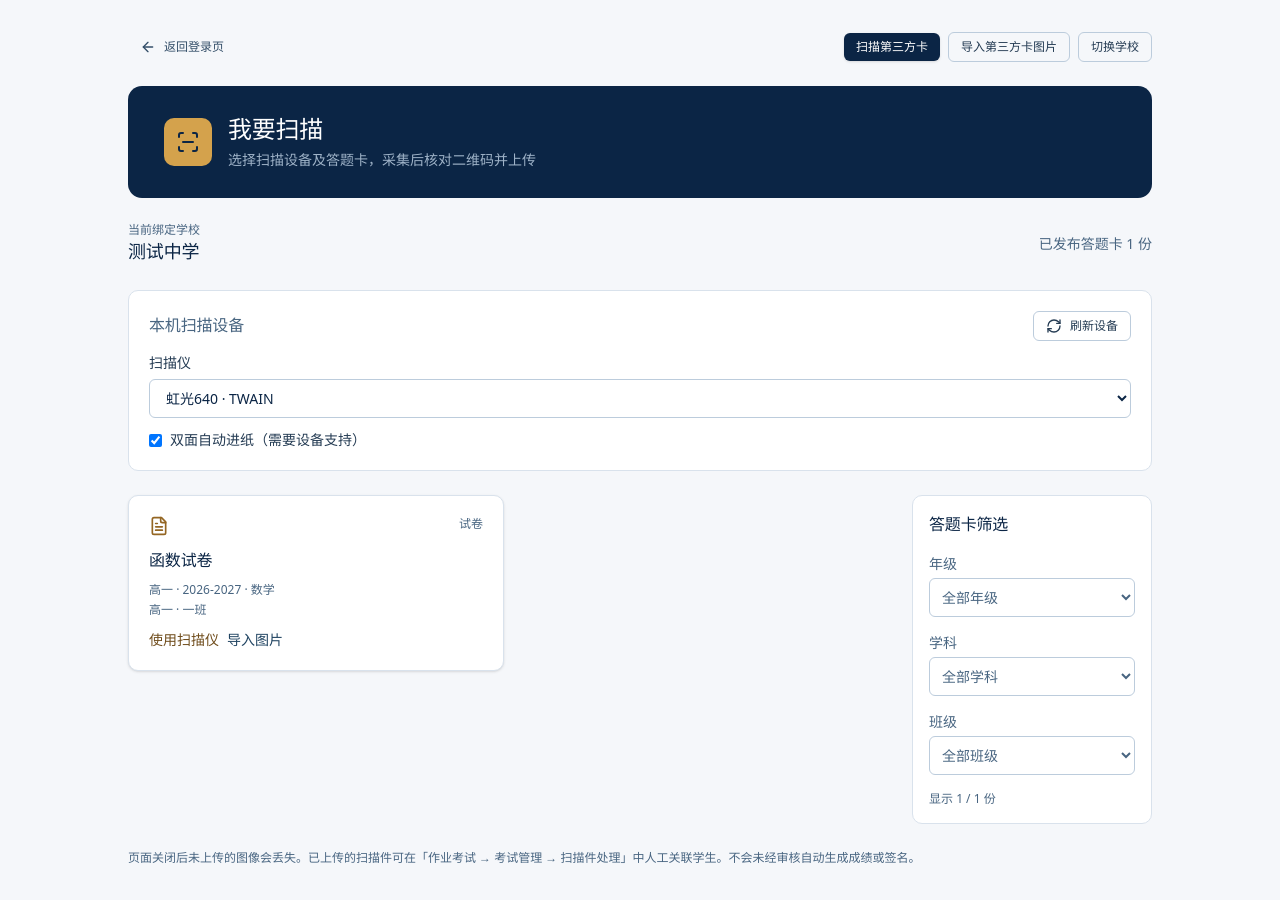
Test: ScannerPage › accepts only the current sheet revision QR in the scanner UI
Click the button with aria-label "使用扫描仪采集函数试卷".
click(184, 640)  # box [149,630,219,650]
(page scrolled)
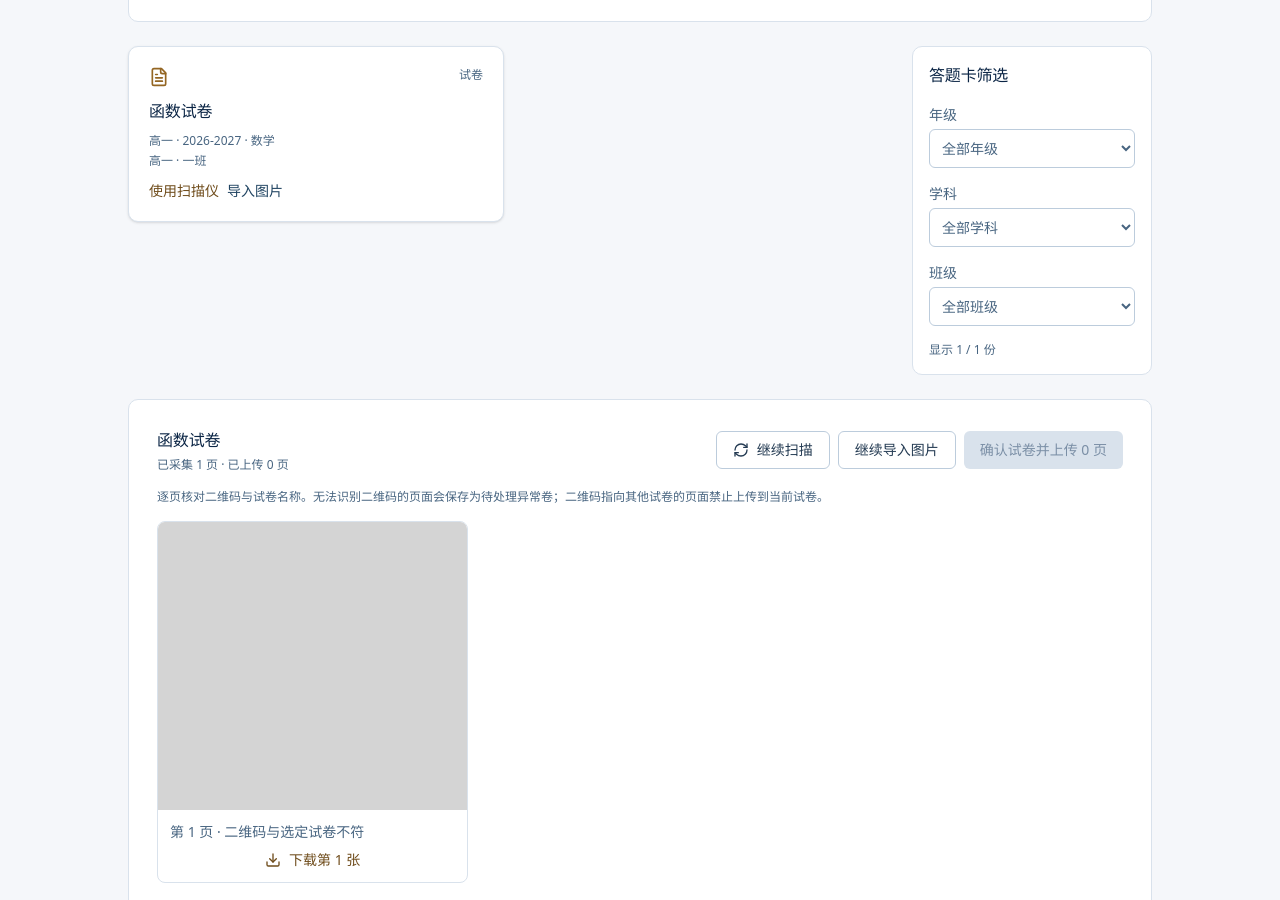
Now the text "第 1 页 · 二维码与选定试卷不符" is shown, box [170,822,364,841]
Now the button "确认试卷并上传 0 页" is disabled, box [964,431,1123,469]
